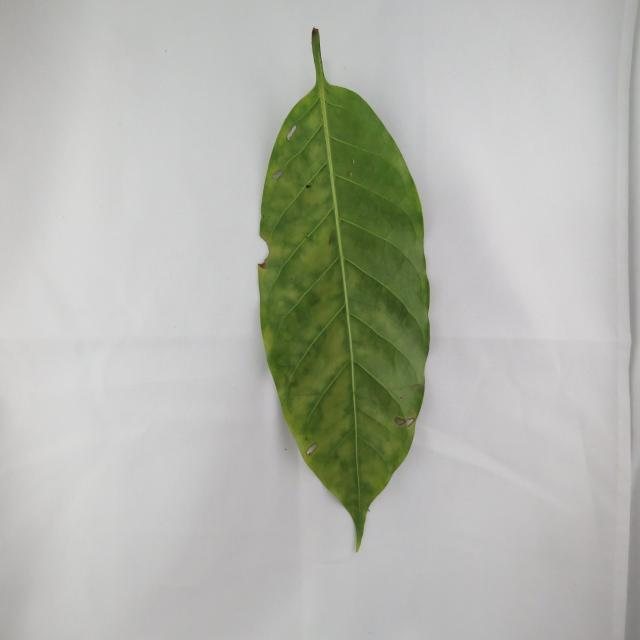DeficienciaNutricional-Magnesio: (259, 30, 430, 550)
